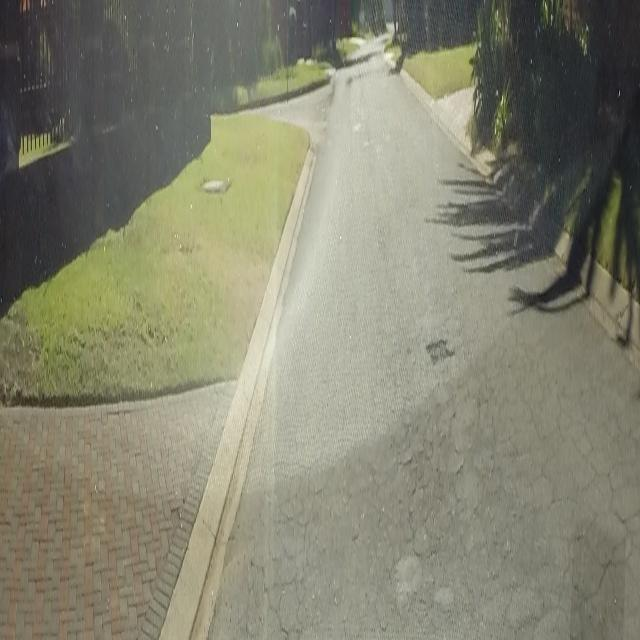pothole: (424, 326, 456, 372)
